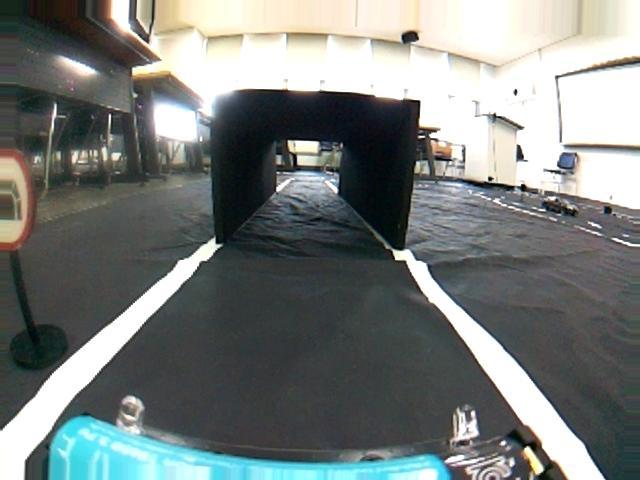straight: (8, 247, 634, 473)
